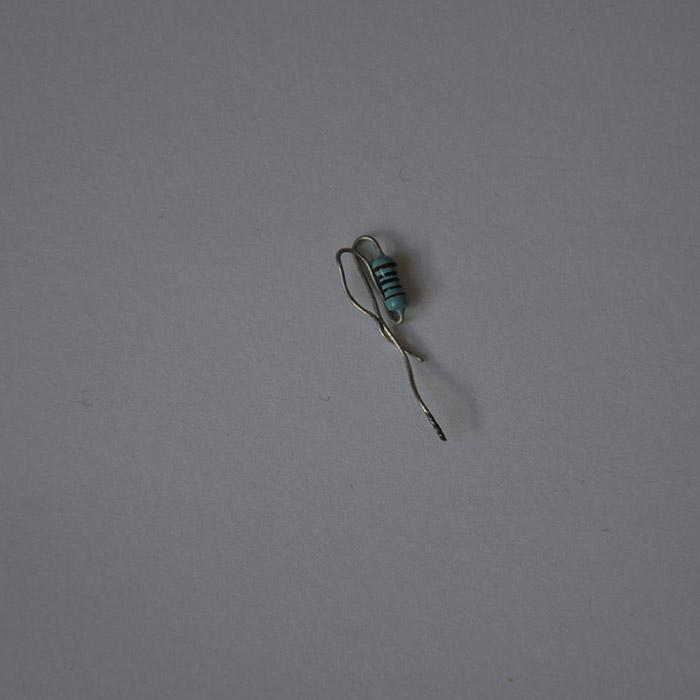resistor: (364, 245, 409, 319)
